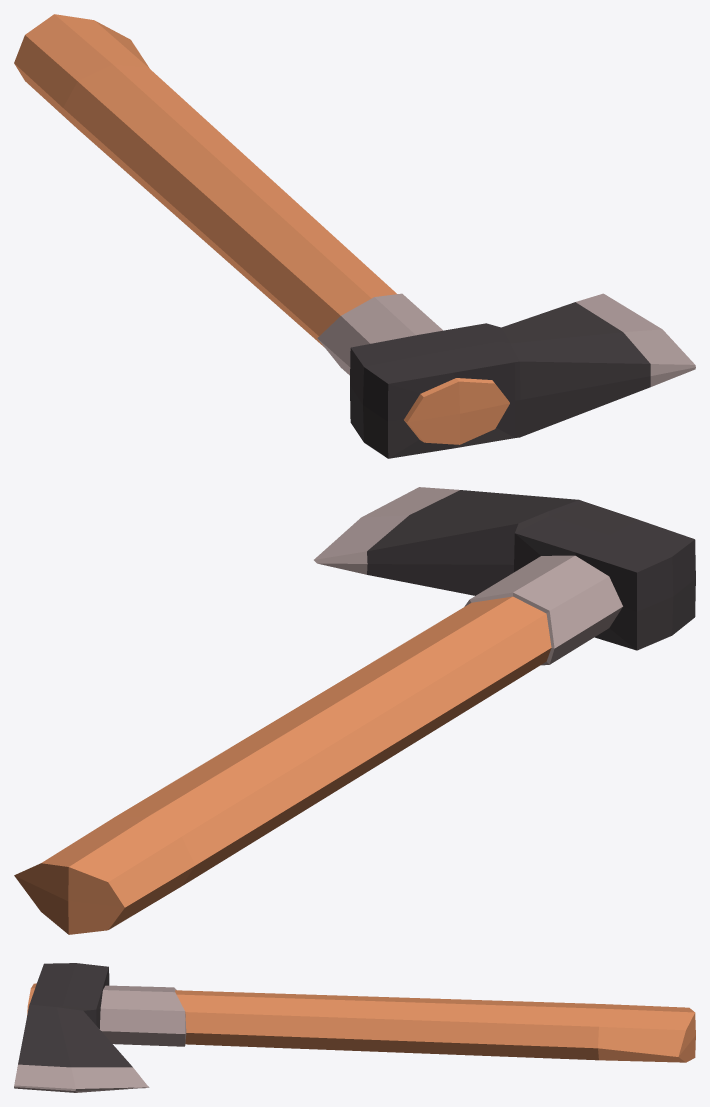
Rendered from Axe3.fbx.
3 views of the same model, one above another, from view 1: azimuth 30°, elevation 25°; view 2: azimuth 150°, elevation 25°; view 3: azimuth 270°, elevation 25° (orthographic). The views are drawn at different scales.
Parts seen in each view (by area): view 1: Plane; view 2: Plane; view 3: Plane.
Boxes of the visible parts, bbox=[...] form: Plane: bbox=[14, 14, 695, 458]; Plane: bbox=[14, 487, 695, 934]; Plane: bbox=[14, 963, 695, 1092].
Size of the model in its own units: 158 by 39.29 by 446.
